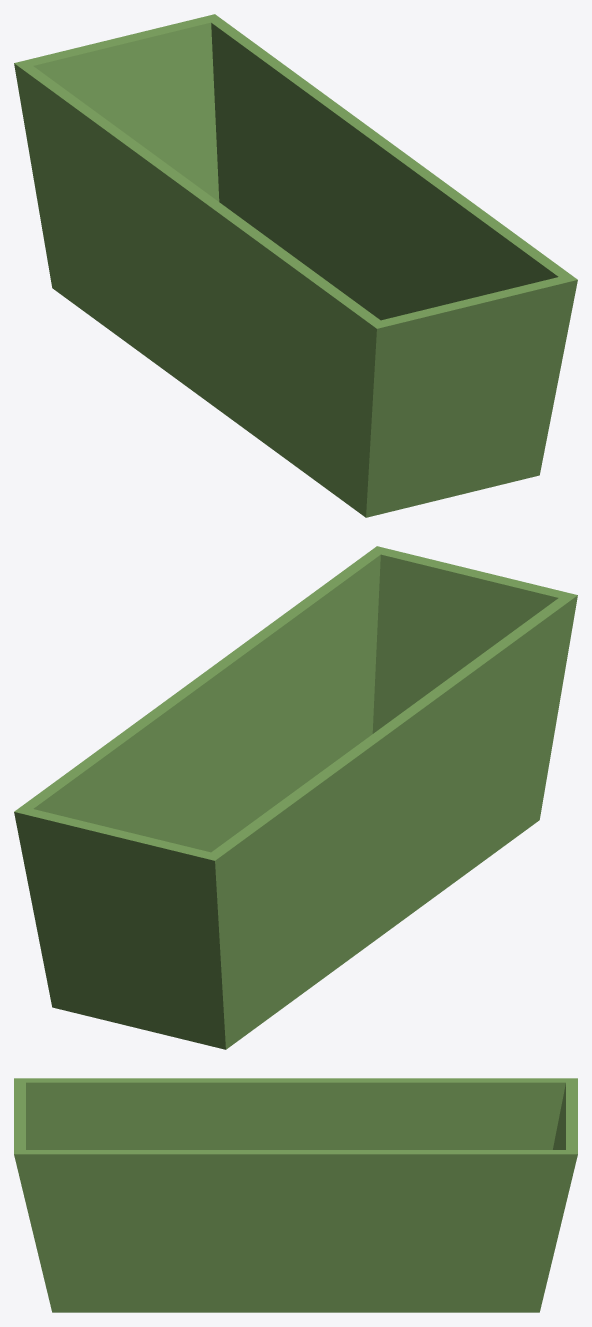
File: Flower_Trough.fbx
3 renders of one model, top to bottom at view 1: azimuth 30°, elevation 25°; view 2: azimuth 150°, elevation 25°; view 3: azimuth 270°, elevation 25°, orthographic. The views are drawn at different scales.
Visible parts, largest first — view 1: polySurface308; view 2: polySurface308; view 3: polySurface308.
Boxes of the visible parts, <box> form: polySurface308: <box>14,14,577,517</box>; polySurface308: <box>14,546,577,1049</box>; polySurface308: <box>14,1078,577,1312</box>.
Size of the model in its own units: 53.4 by 53.4 by 167.
